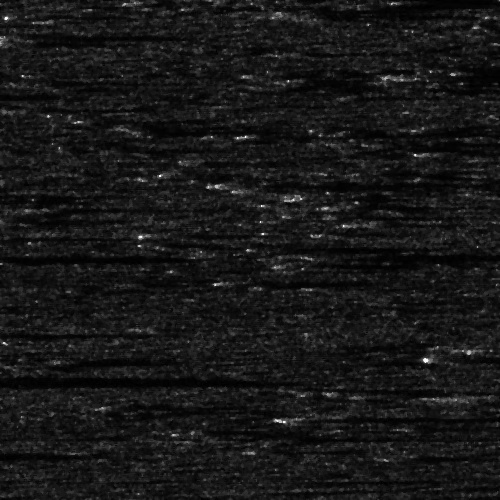object: (371, 67, 464, 80), (467, 338, 498, 359), (98, 122, 151, 131), (413, 356, 476, 363), (273, 254, 356, 259), (408, 148, 481, 153), (1, 30, 32, 41), (207, 181, 270, 186), (1, 203, 64, 208), (234, 446, 287, 451), (0, 329, 25, 338), (451, 393, 492, 396)
shadow: (17, 30, 200, 41), (0, 329, 158, 338), (125, 122, 251, 131), (418, 67, 500, 80), (239, 181, 433, 186), (314, 254, 500, 259), (33, 203, 217, 208), (0, 376, 175, 381), (0, 252, 145, 257), (261, 446, 393, 451), (0, 451, 107, 456), (444, 356, 500, 363), (444, 148, 500, 153)
